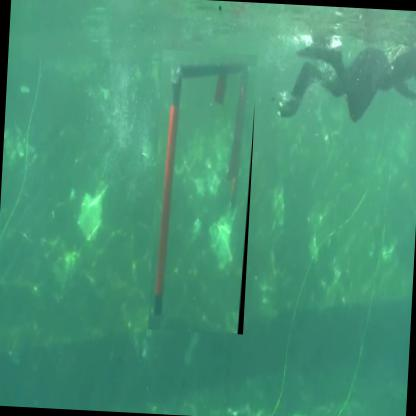gate: (149, 50, 259, 336)
